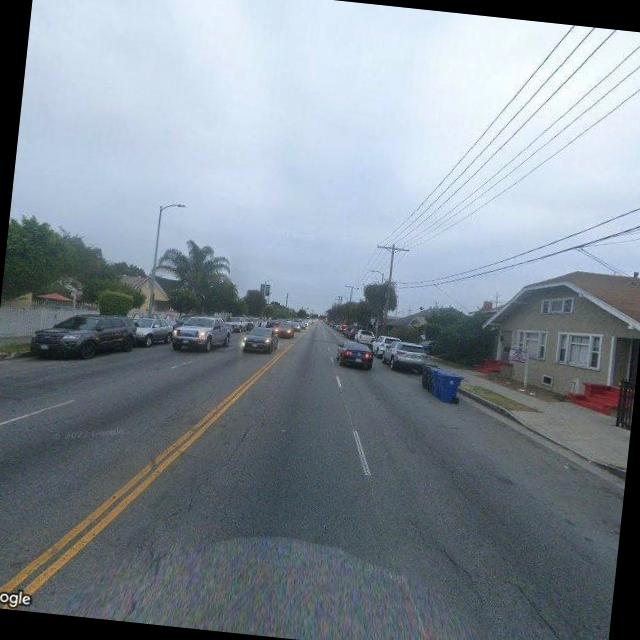crack: (398, 521, 494, 606), (502, 578, 580, 640)
